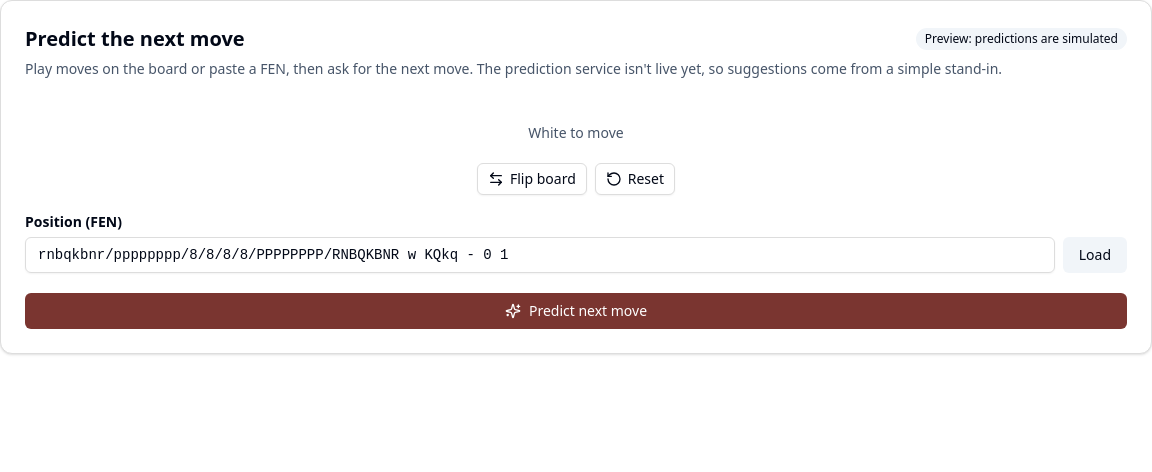
Scenario: PositionPredictor › shows the predicted move and draws it on the board
Click the button "Predict next move".
click(576, 311)  # box [25,293,1127,329]
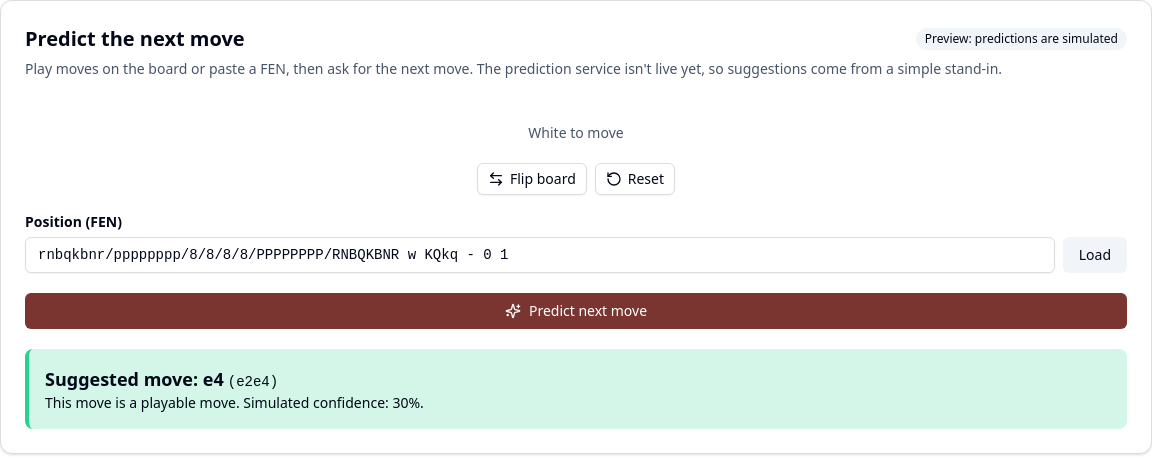
Result: the text with test id "prediction-san" reads "e4" at [203,367,224,391]
Result: the message with test id "prediction" shows "e2e4" at [228,374,278,390]
Result: the message with test id "prediction" shows "Simulated confidence: 30%" at [45,393,424,412]
